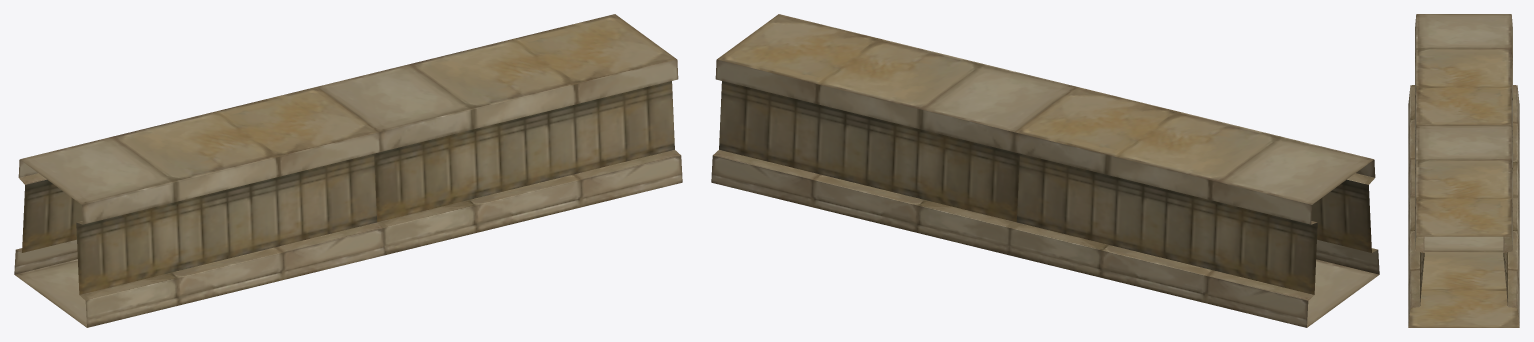
Rendered from lv7_qiang_6.FBX.
3 renders of one model, left to right at view 1: azimuth 30°, elevation 25°; view 2: azimuth 150°, elevation 25°; view 3: azimuth 270°, elevation 25°, orthographic. The views are drawn at different scales.
Parts seen in each view (by area): view 1: lv7_qiang_6; view 2: lv7_qiang_6; view 3: lv7_qiang_6.
Boxes of the visible parts, left/top/right/bottom form: lv7_qiang_6: left=14, top=14, right=682, bottom=327; lv7_qiang_6: left=711, top=14, right=1379, bottom=327; lv7_qiang_6: left=1408, top=14, right=1519, bottom=327.
Size of the model in its own units: 522 by 99.92 by 110.
